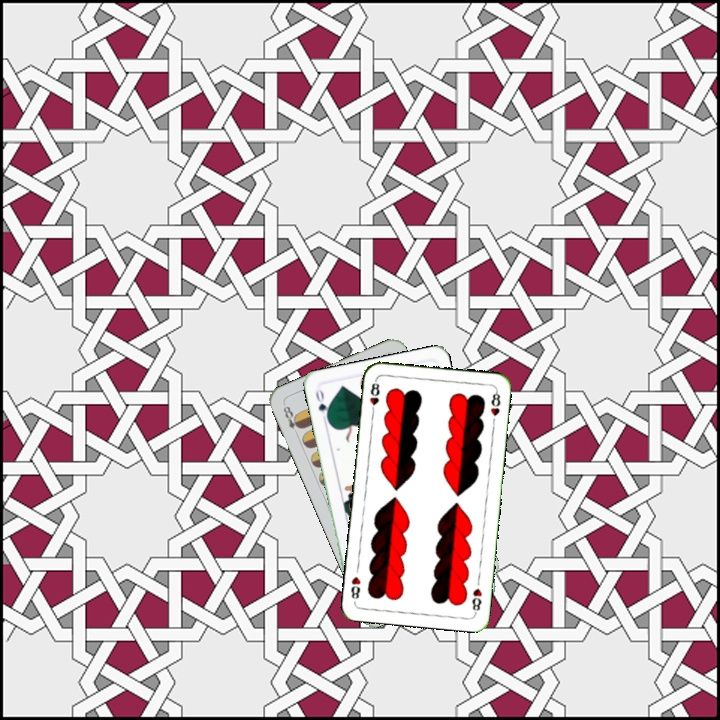E8: (279, 400, 304, 432)
GO: (311, 385, 332, 425)
H8: (366, 376, 382, 417), (468, 584, 484, 616)
